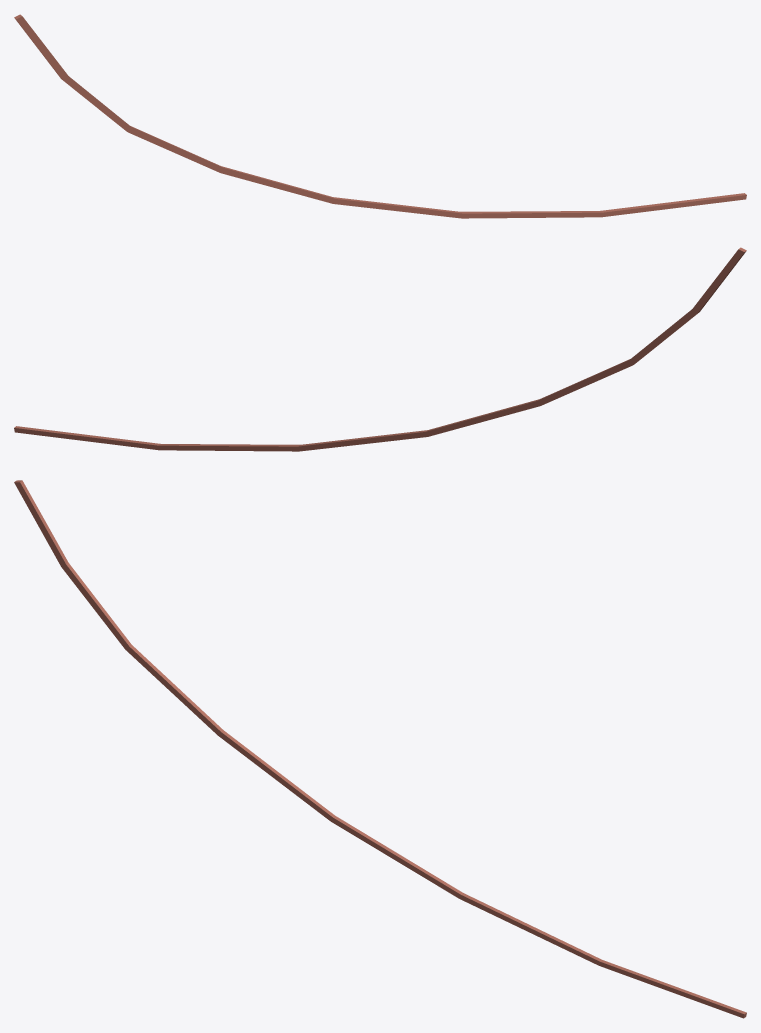
The model's file is bridge_shroud_002.glb.
3 renders of one model, top to bottom at view 1: azimuth 30°, elevation 25°; view 2: azimuth 150°, elevation 25°; view 3: azimuth 330°, elevation 25°, orthographic.
Visible parts, largest first — view 1: bridge_shroud_002; view 2: bridge_shroud_002; view 3: bridge_shroud_002.
Part boxes in pixels (<box>): bridge_shroud_002: <box>14,14,746,218</box>; bridge_shroud_002: <box>14,247,746,451</box>; bridge_shroud_002: <box>14,480,746,1018</box>.
Size of the model in its own units: 51.17 by 24.08 by 0.2971.
Materials: 1 (1 with a texture image).
